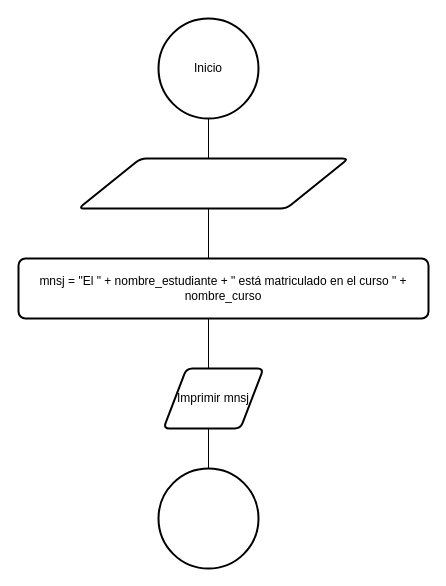
Image size: 446x586. Some labels were removed from this diagram. The shapes that lost their labels are listed below. From the top down, each one's box as (x1, y1, x2, y2) in pixels, then its label:
(77, 157, 349, 209): Leer nombre_estudiante, nombre_curso, nota
(157, 467, 259, 569): Fin
